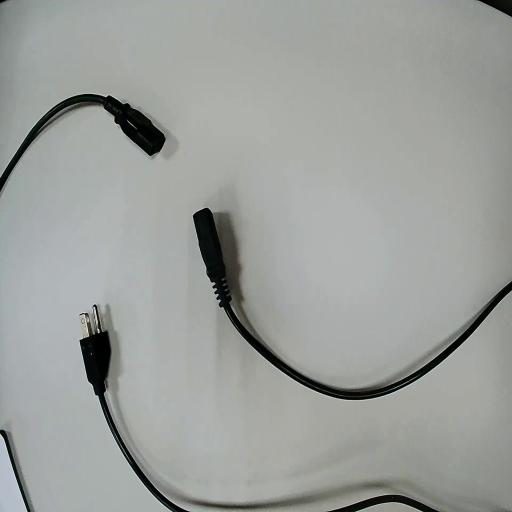wire: (194, 209, 511, 398), (81, 331, 184, 511), (0, 95, 164, 188)
